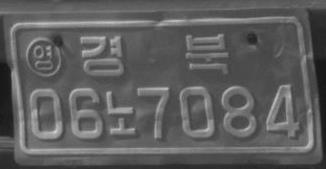0: (178, 85, 216, 139), (28, 86, 64, 141)
4: (265, 83, 301, 138)
6: (67, 86, 104, 139)
7: (137, 85, 171, 139)
8: (221, 84, 258, 139)
경북_D: (79, 32, 229, 76)
노: (105, 90, 137, 134)
영: (25, 37, 62, 78)
